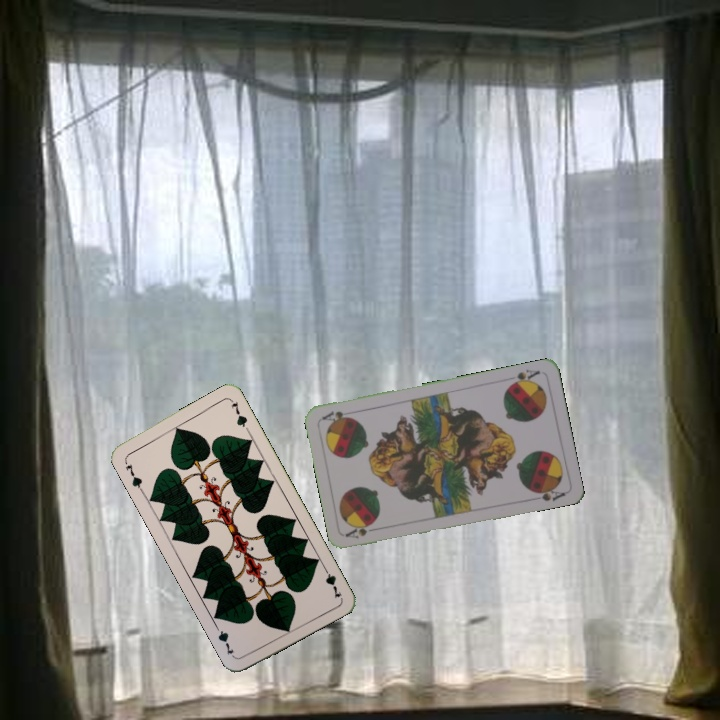G7: (319, 562, 344, 601), (121, 459, 145, 494)
SA: (505, 365, 543, 389), (342, 520, 383, 541)
